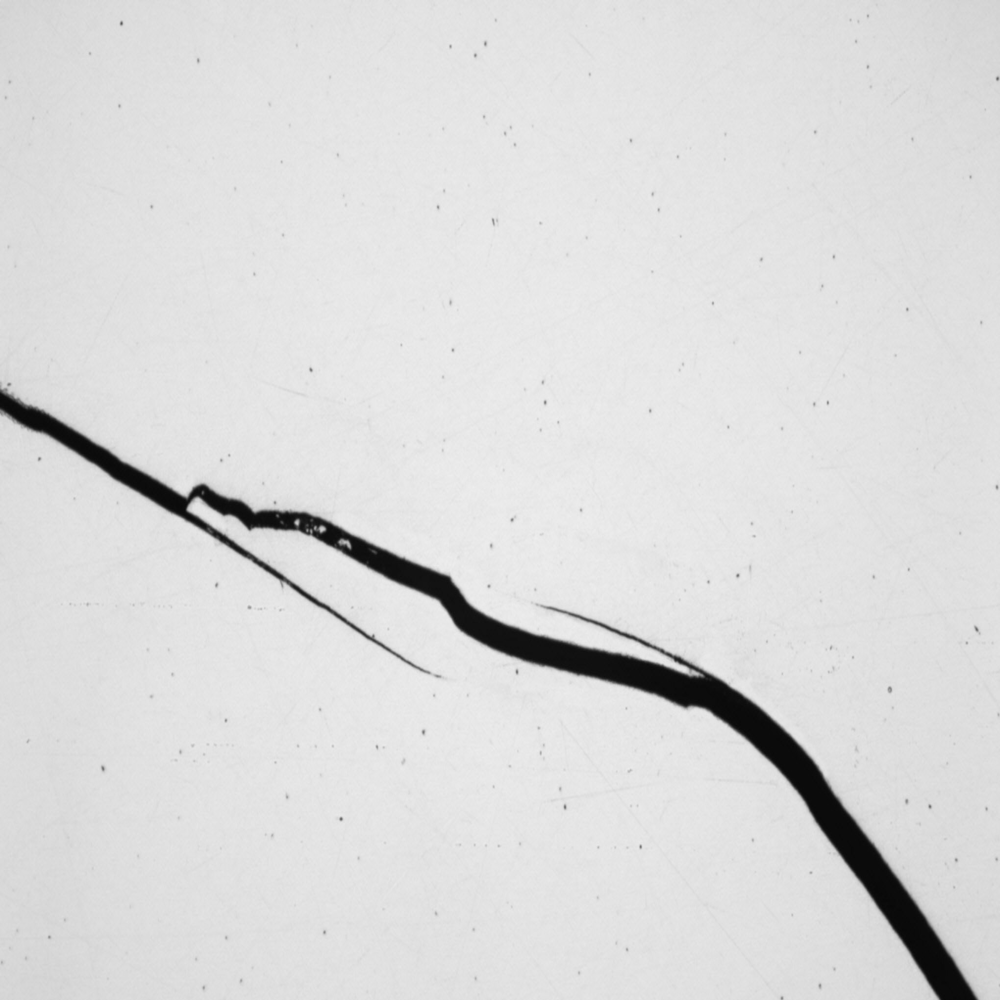crack: (3, 323, 966, 992)
